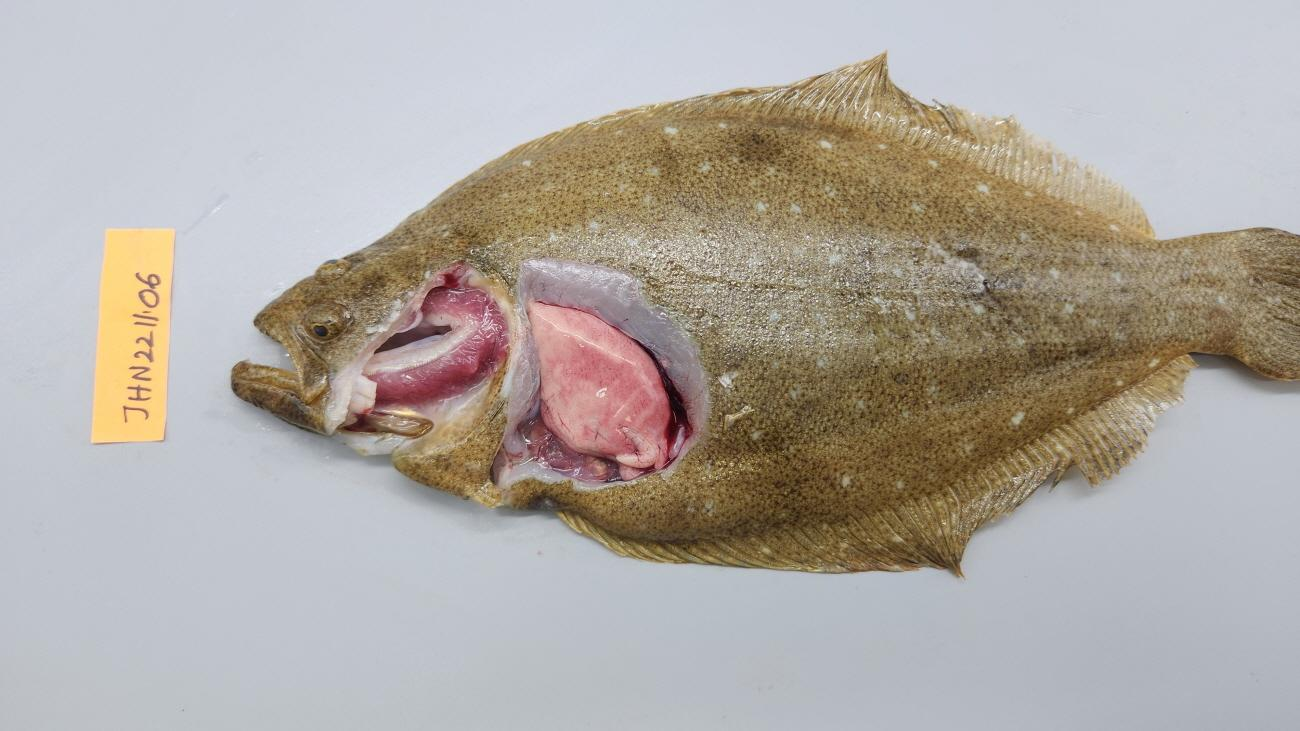POLIN: (526, 301, 670, 481)
